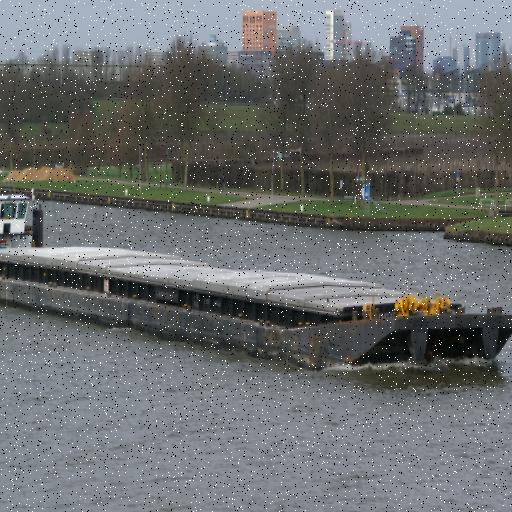tugboat: (1, 163, 49, 303)
